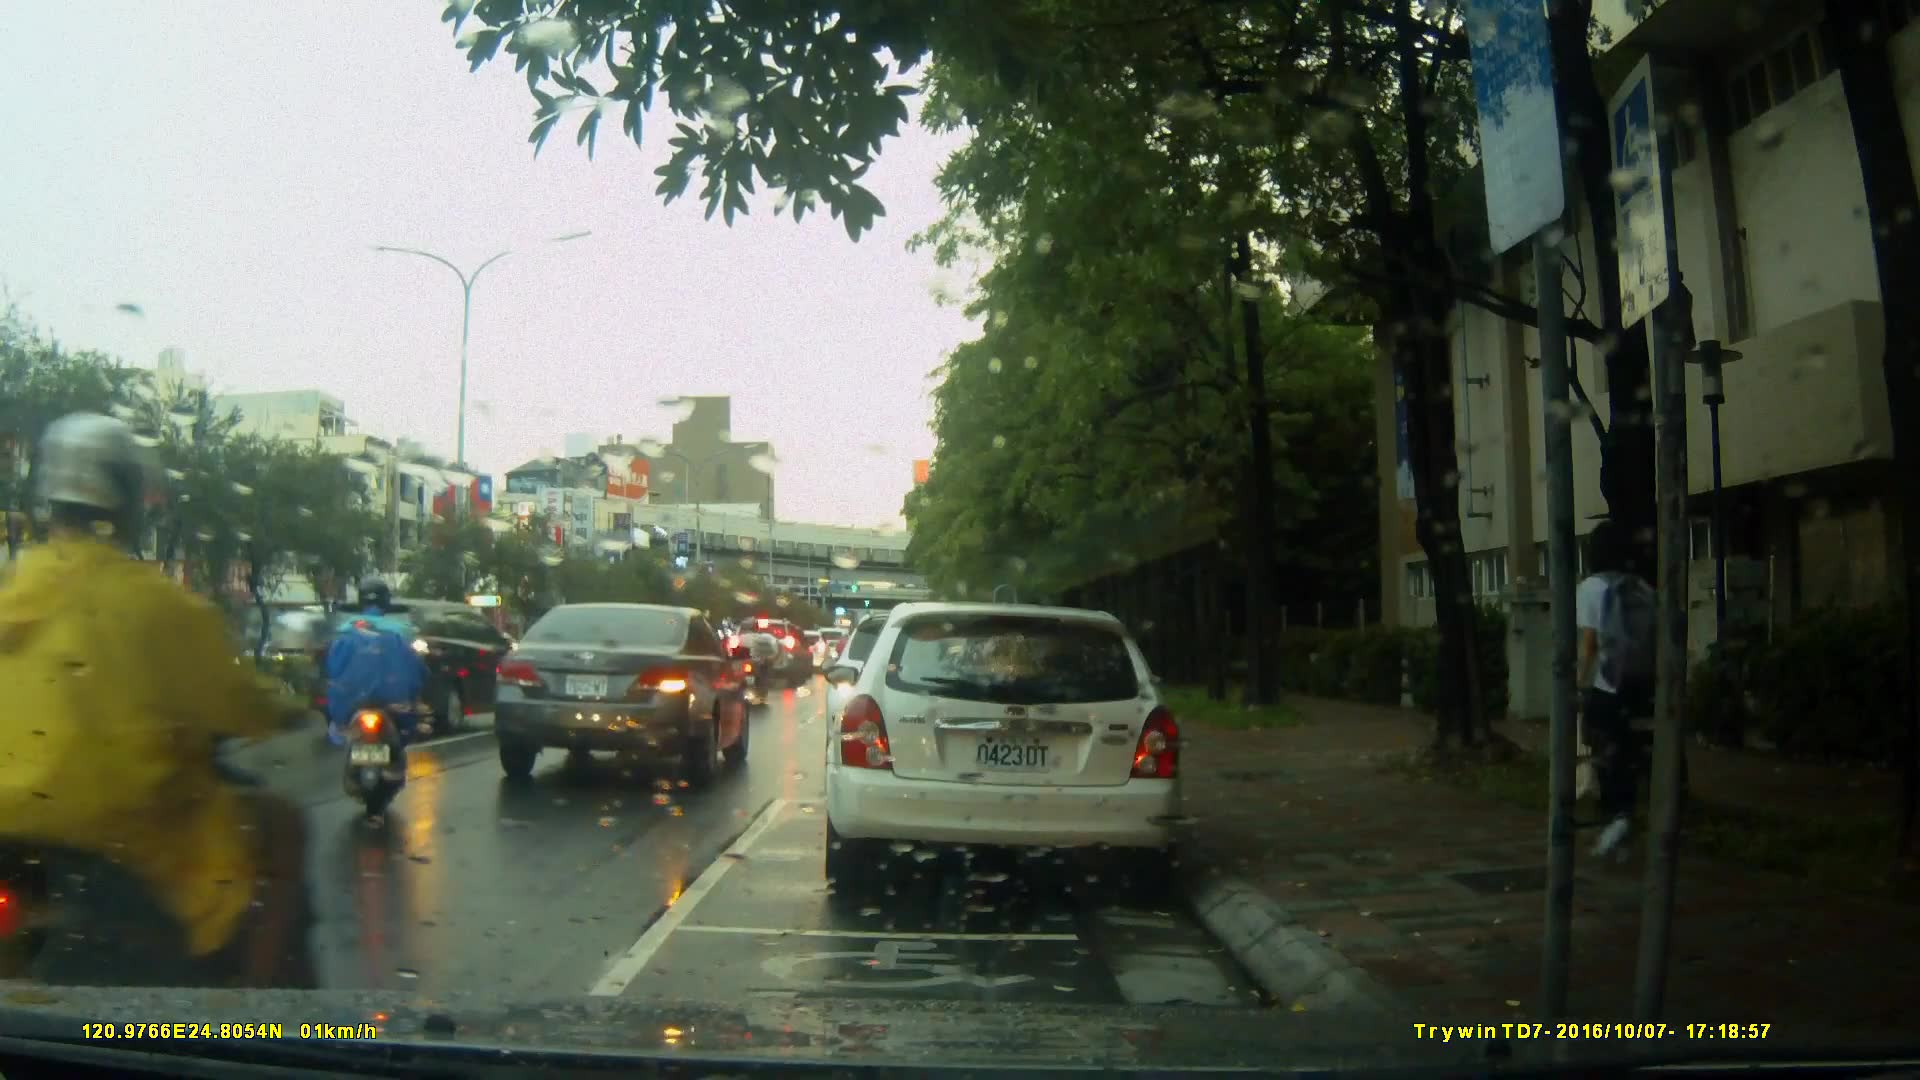pedestrian: (1542, 518, 1664, 870)
rider: (4, 400, 297, 1062), (336, 579, 433, 816), (736, 617, 771, 702)
vehicle: (1, 544, 278, 986), (820, 602, 1188, 898), (492, 601, 755, 787), (312, 596, 530, 738), (732, 619, 813, 690), (134, 634, 239, 689)
